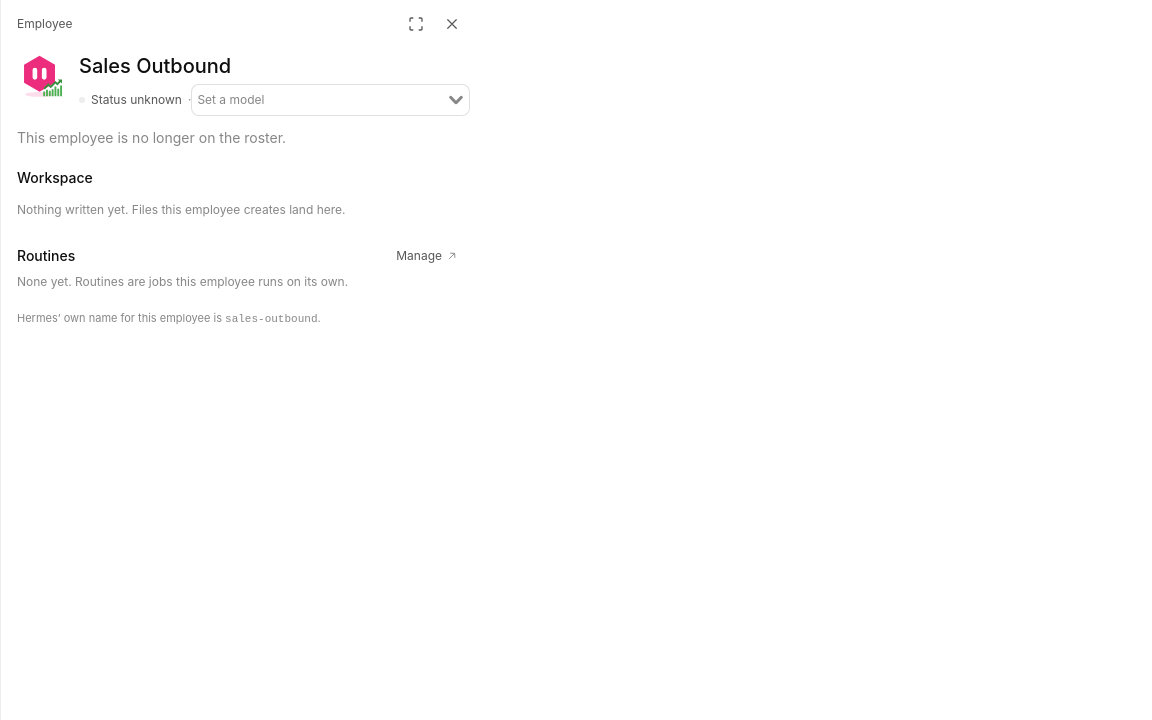
Test: EmployeePanel › refuses to post a routine with nothing to do
Click the button "Manage" at (427, 256), box [390,246,464,266]
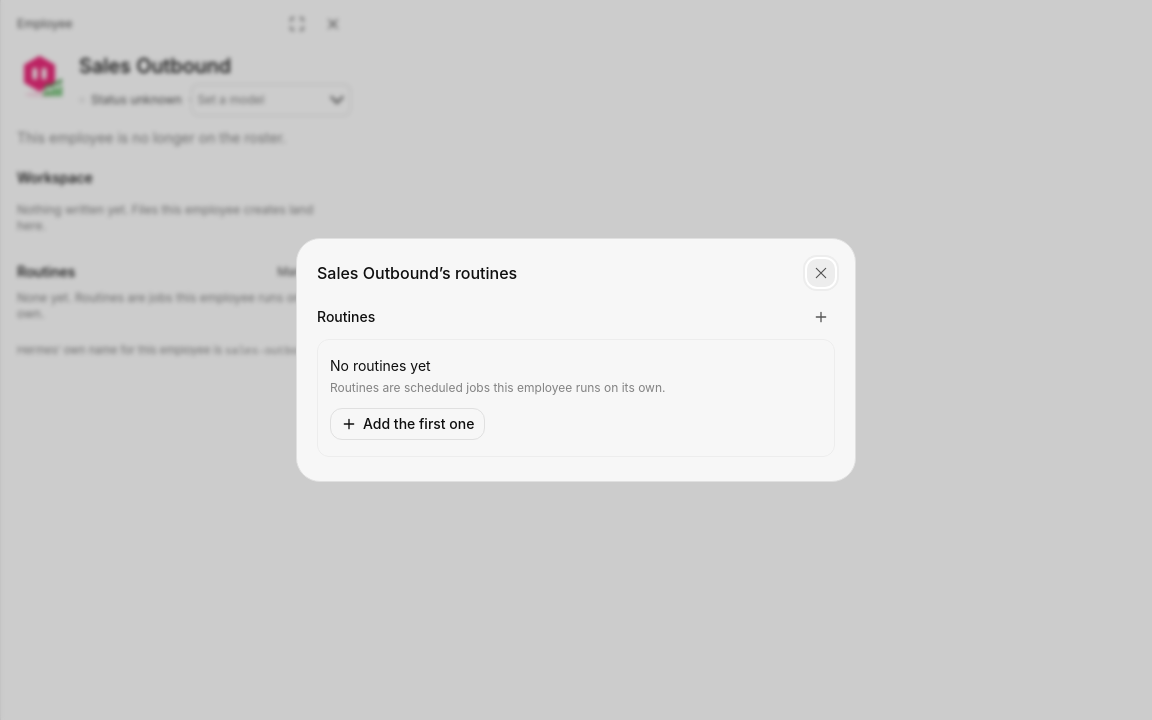
Click the button "Add the first one" at (408, 424), box [330,408,486,440]
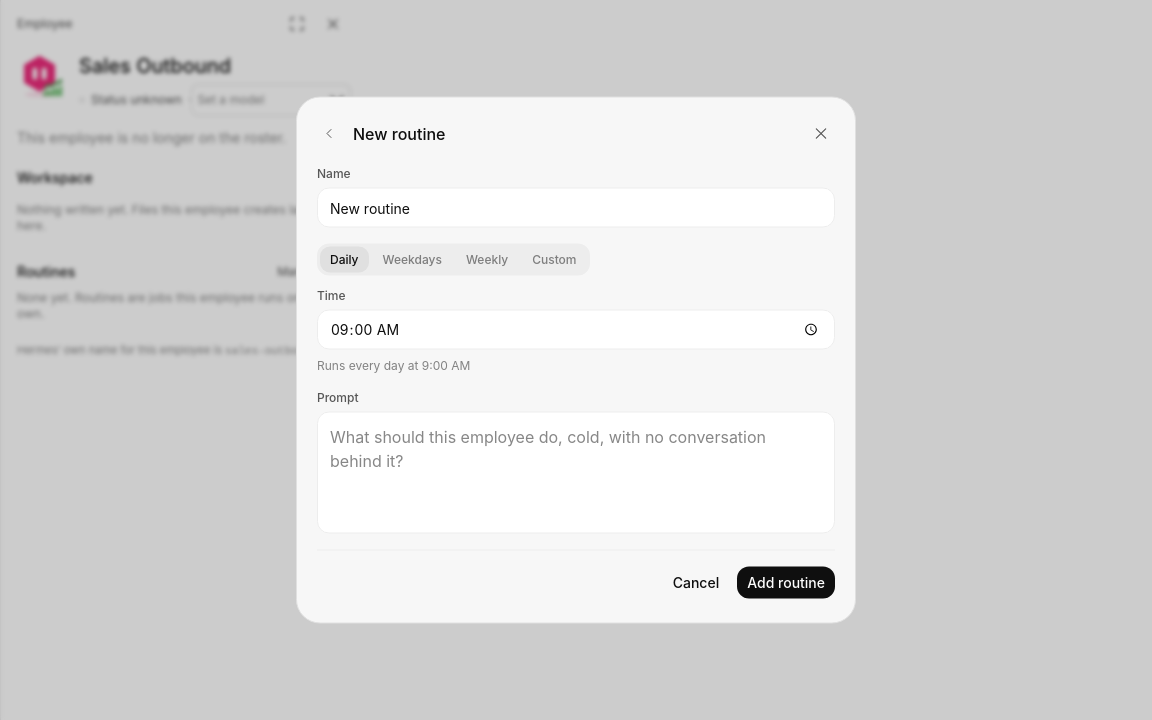
Click the button "Add routine" at (786, 582), box [737,566,835,598]
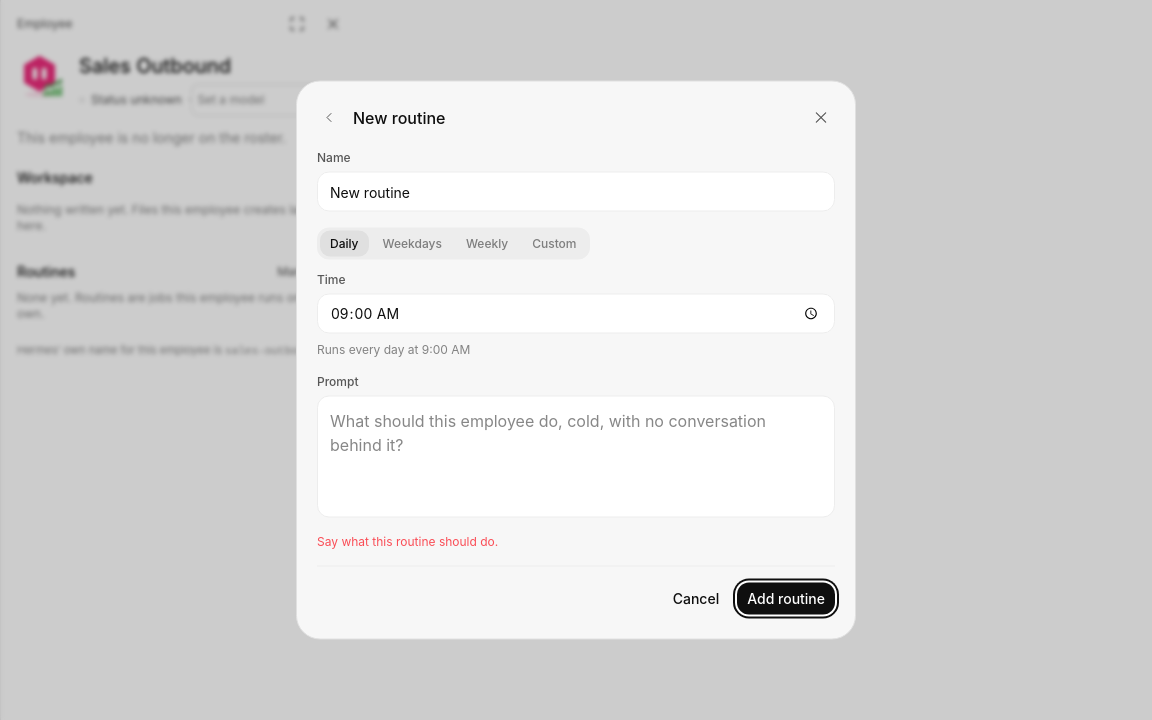
Expected: the message reads "Say what this routine should do.", [317,534,498,548]
